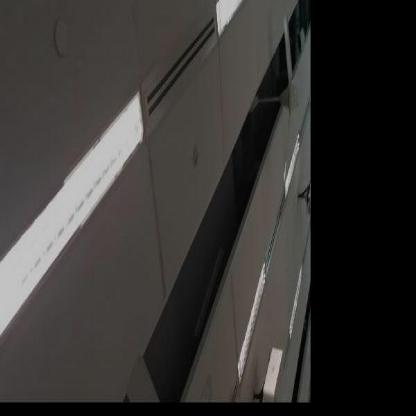light_on: (0, 79, 154, 371), (230, 250, 268, 385), (210, 0, 252, 53), (277, 128, 307, 202), (285, 258, 307, 344)
